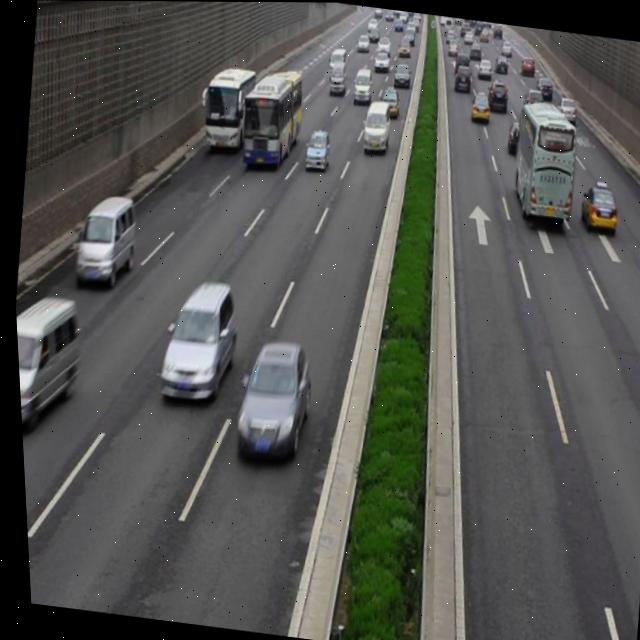car: (151, 275, 240, 411), (226, 337, 310, 463), (573, 180, 617, 235), (300, 126, 331, 173)
truck: (12, 291, 81, 435), (67, 192, 137, 290), (356, 99, 392, 154)
van: (504, 98, 580, 224), (232, 63, 307, 169), (196, 61, 257, 151)
